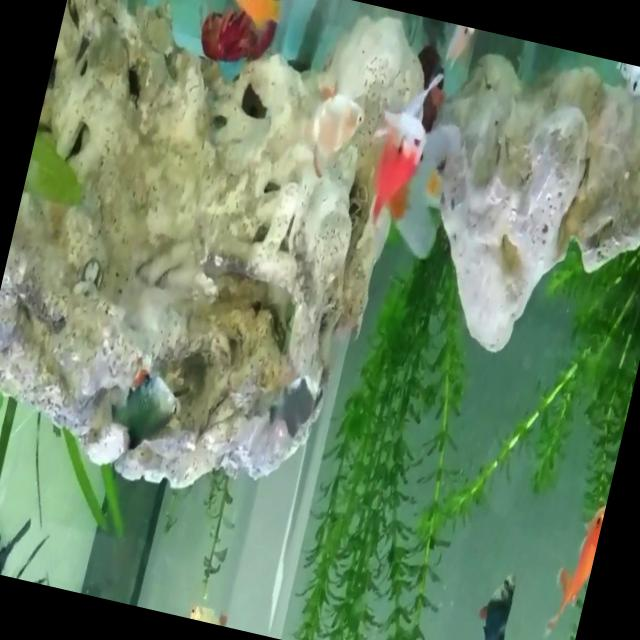GoldFish: (352, 85, 448, 246), (541, 493, 607, 640)
